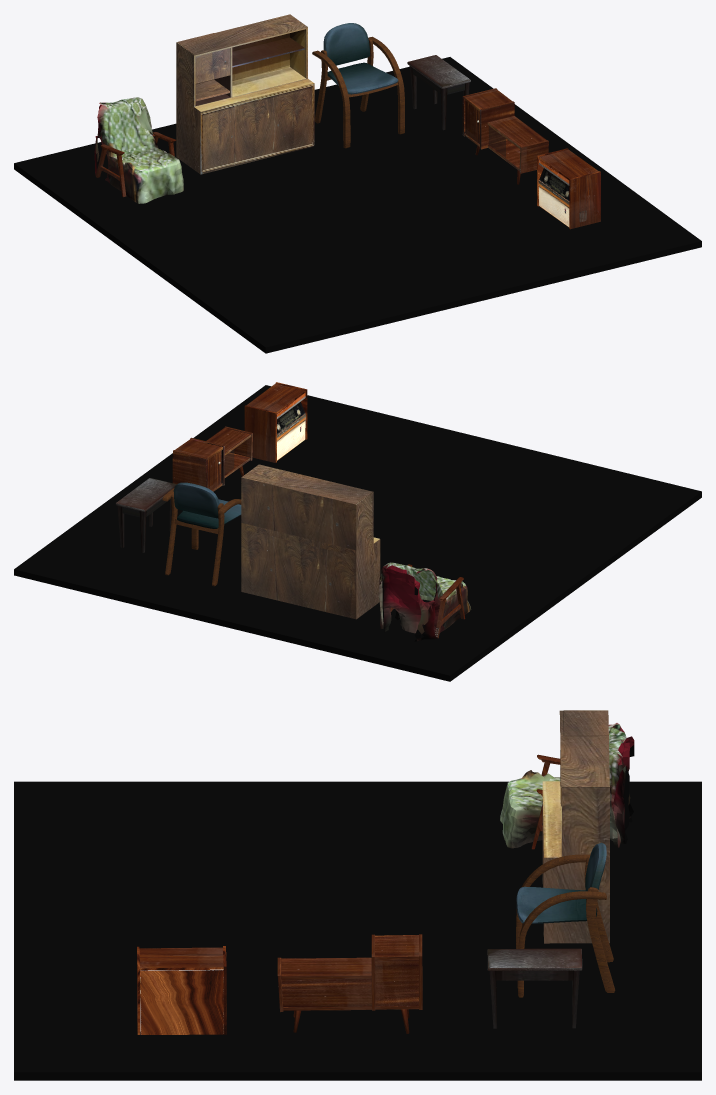
File: soviet_furniture_pack_lowpoly.glb
The picture shows the model from 3 angles, top to bottom: view 1: azimuth 30°, elevation 25°; view 2: azimuth 150°, elevation 25°; view 3: azimuth 270°, elevation 25°; orthographic projection. The views are drawn at different scales.
Parts seen in each view (by area): view 1: Plane_7, Cube.005_5, Cube.007_6, Cube.003_0, Cube_4, Cube.001_2, Cube.002_3; view 2: Plane_7, Cube.005_5, Cube.007_6, Cube.001_2, Cube_4, Cube.003_0, Cube.002_3; view 3: Plane_7, Cube.005_5, Cube_4, Cube.001_2, Cube.003_0, Cube.007_6, Cube.002_3.
Part boxes in pixels (x1=…): Plane_7: x1=14, y1=57, x2=701, y2=353; Cube.005_5: x1=176, y1=14, x2=314, y2=174; Cube.007_6: x1=94, y1=97, x2=183, y2=203; Cube.003_0: x1=312, y1=23, x2=404, y2=148; Cube_4: x1=462, y1=88, x2=548, y2=184; Cube.001_2: x1=537, y1=148, x2=600, y2=229; Cube.002_3: x1=407, y1=55, x2=470, y2=130; Plane_7: x1=14, y1=385, x2=701, y2=681; Cube.005_5: x1=241, y1=464, x2=380, y2=619; Cube.007_6: x1=378, y1=562, x2=471, y2=641; Cube.001_2: x1=244, y1=382, x2=307, y2=462; Cube_4: x1=172, y1=426, x2=252, y2=491; Cube.003_0: x1=162, y1=482, x2=241, y2=586; Cube.002_3: x1=115, y1=478, x2=176, y2=552; Plane_7: x1=14, y1=781, x2=701, y2=1080; Cube.005_5: x1=542, y1=710, x2=609, y2=943; Cube_4: x1=277, y1=934, x2=422, y2=1033; Cube.001_2: x1=137, y1=946, x2=226, y2=1034; Cube.003_0: x1=516, y1=842, x2=615, y2=997; Cube.007_6: x1=500, y1=723, x2=634, y2=849; Cube.002_3: x1=487, y1=948, x2=582, y2=1028.
Bounding box in the file's own units: 6.11 × 1.62 × 6.11.
Materials: 13 (11 with a texture image).
